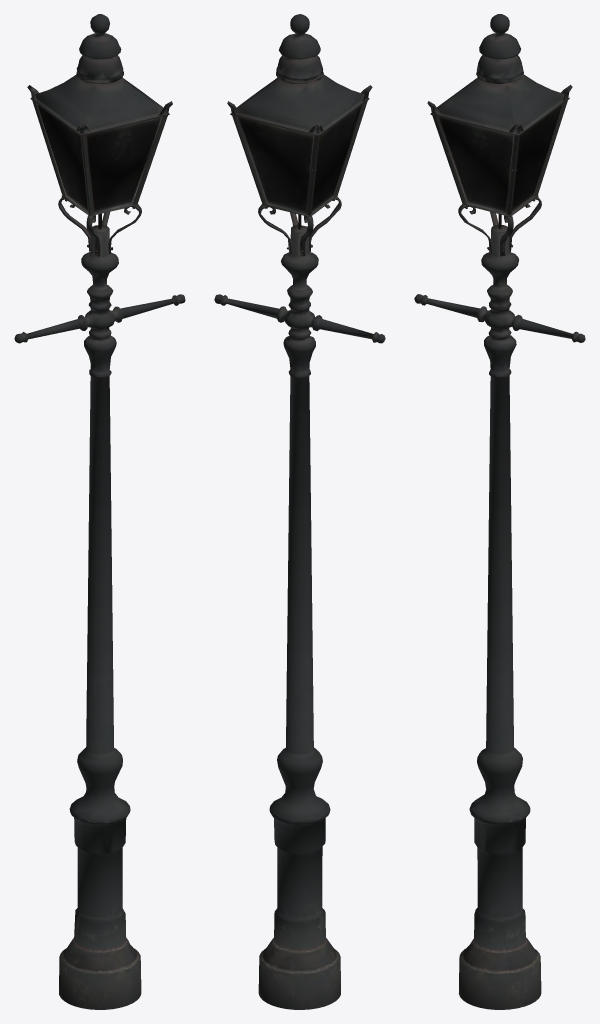
Rendered from street_lamp_01.glb.
The picture shows the model from 3 angles, left to right: view 1: azimuth 30°, elevation 25°; view 2: azimuth 150°, elevation 25°; view 3: azimuth 330°, elevation 25°; orthographic projection.
Visible parts, largest first — view 1: street_lamp_01; view 2: street_lamp_01; view 3: street_lamp_01.
Boxes of the visible parts, bbox=[...] form: street_lamp_01: bbox=[14, 14, 185, 1009]; street_lamp_01: bbox=[214, 14, 385, 1009]; street_lamp_01: bbox=[414, 14, 585, 1009].
Bounding box in the file's own units: 0.7021 × 3.87 × 0.3858.
Materials: 2 (2 with a texture image).
